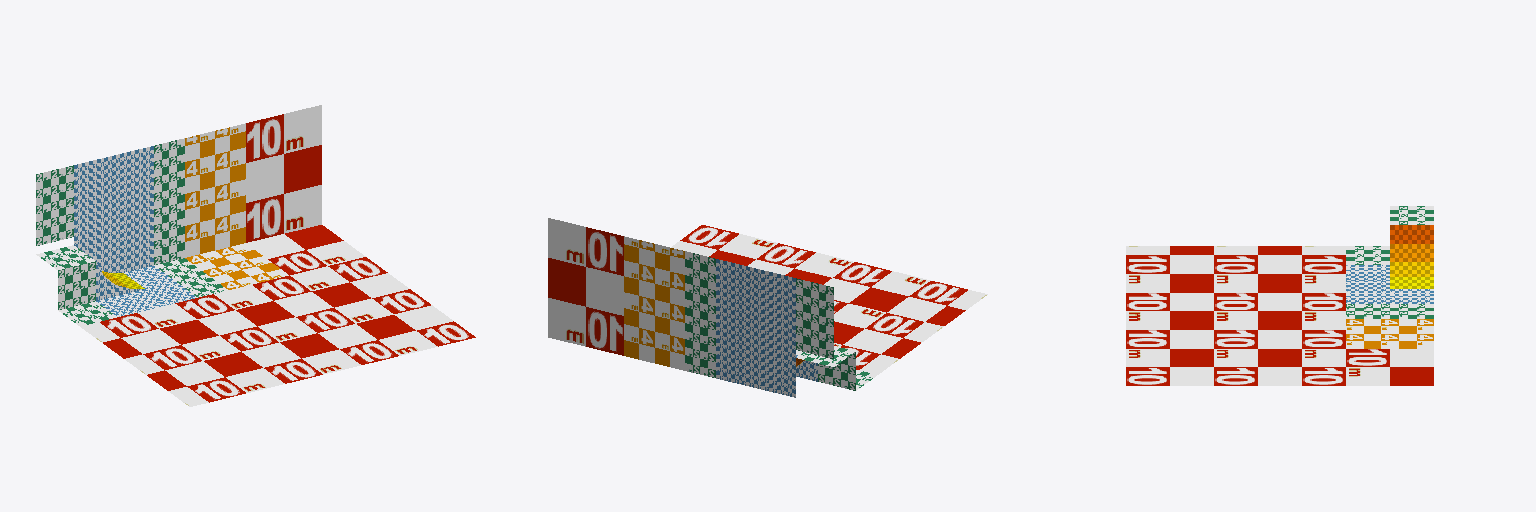
The picture shows the model from 3 angles: view 1: azimuth 30°, elevation 25°; view 2: azimuth 150°, elevation 25°; view 3: azimuth 270°, elevation 25°; orthographic projection.
Size of the model in its own units: 75 by 30 by 70.
Materials: 8 (8 with a texture image).